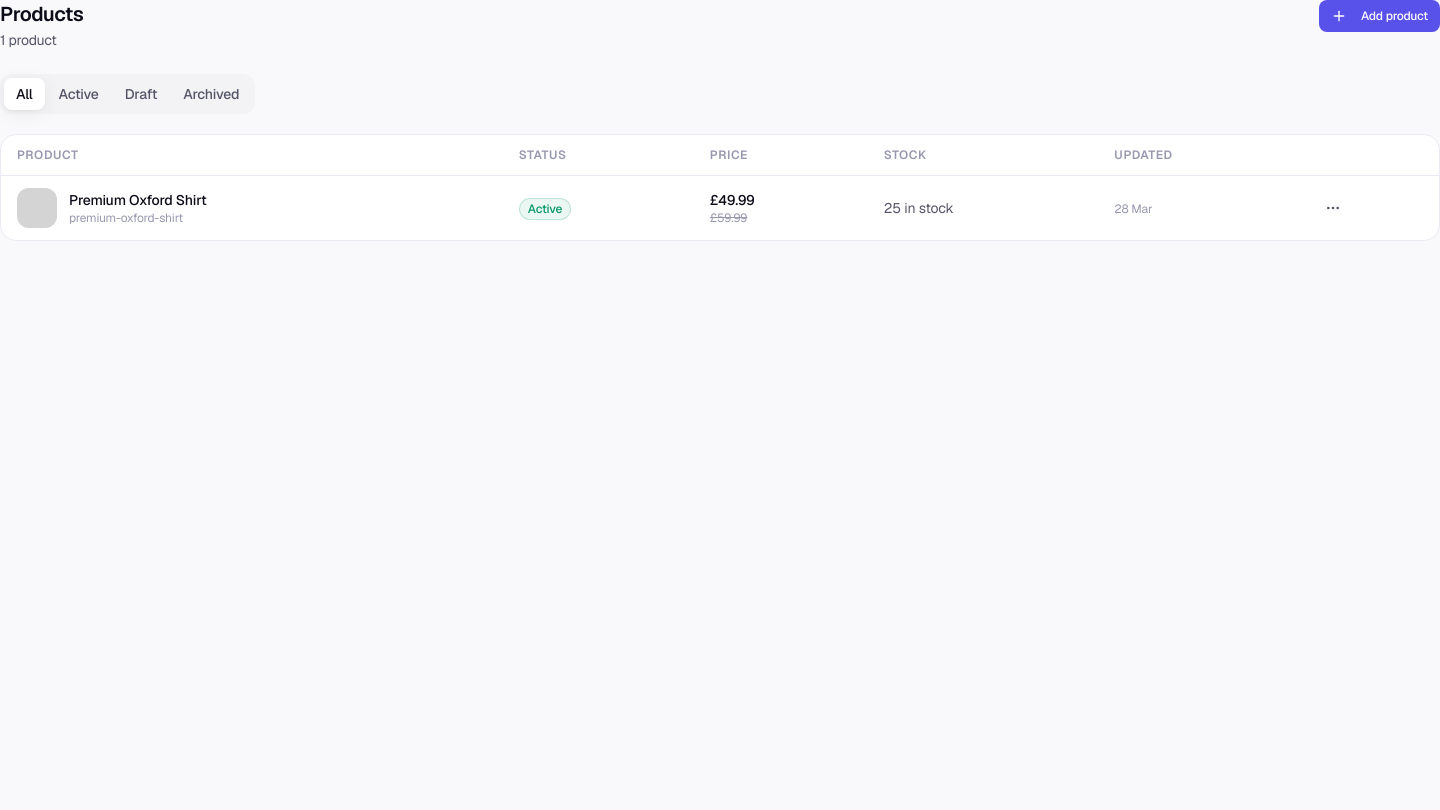
ProductList — delete product › shows delete confirmation modal when delete option clicked
Expected: the text "Premium Oxford Shirt" is shown, [69, 190, 206, 210]
Click the 6th button: click(1333, 208) [1319, 194, 1347, 222]
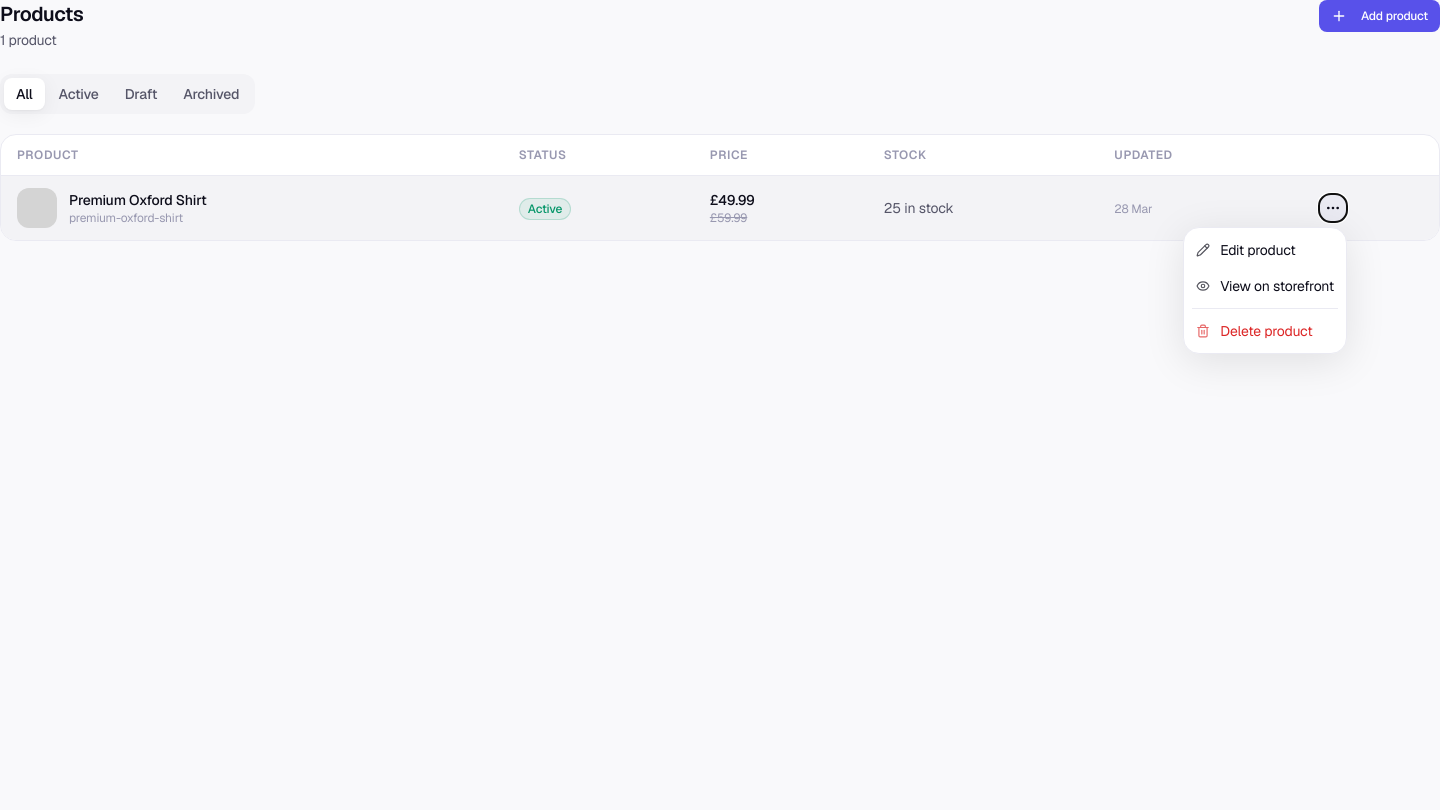
Click the button "Delete product": click(1265, 330) [1184, 312, 1346, 348]
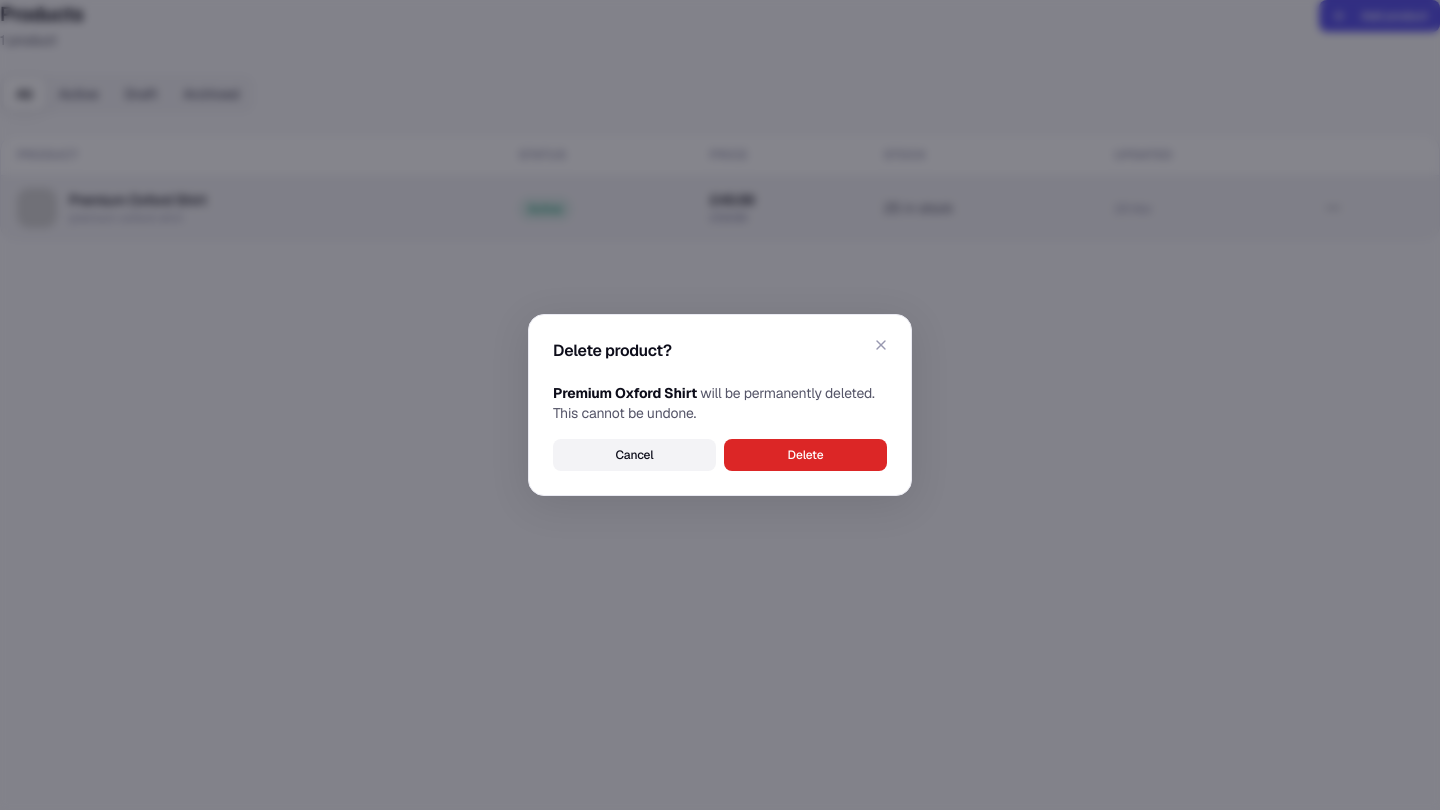
Now the heading "Delete product?" is shown, box [553, 340, 672, 361]
